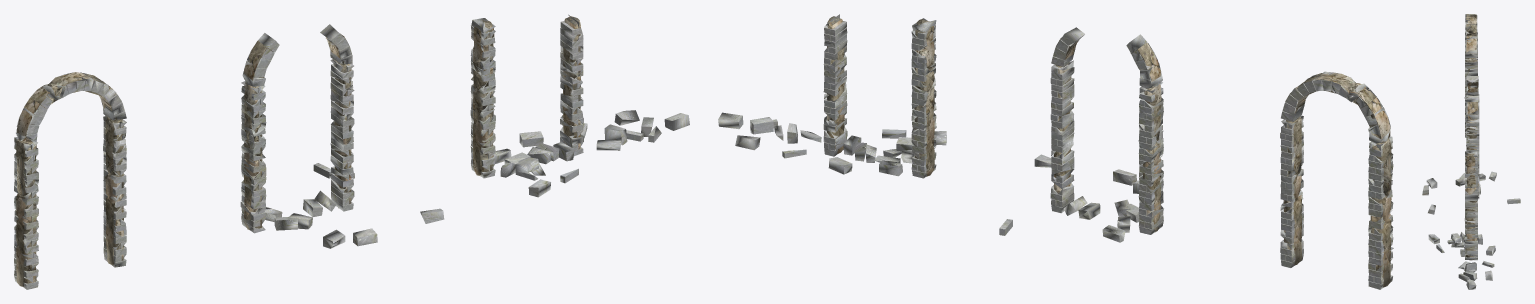
File: arch-ruins.zfix-v1.lod0.glb
The picture shows the model from 3 angles, left to right: view 1: azimuth 30°, elevation 25°; view 2: azimuth 150°, elevation 25°; view 3: azimuth 270°, elevation 25°; orthographic projection. The views are drawn at different scales.
Parts seen in each view (by area): view 1: Object_6, Object_5; view 2: Object_6, Object_5; view 3: Object_6, Object_5.
Part boxes in pixels (left/top/right/bottom): Object_6: left=14, top=14, right=689, bottom=289; Object_5: left=16, top=16, right=580, bottom=286; Object_6: left=718, top=14, right=1393, bottom=289; Object_5: left=827, top=16, right=1391, bottom=287; Object_6: left=1422, top=14, right=1520, bottom=289; Object_5: left=1465, top=14, right=1478, bottom=260.
Bounding box in the file's own units: 17.49 × 4.94 × 4.07.
Materials: 2 (2 with a texture image).
